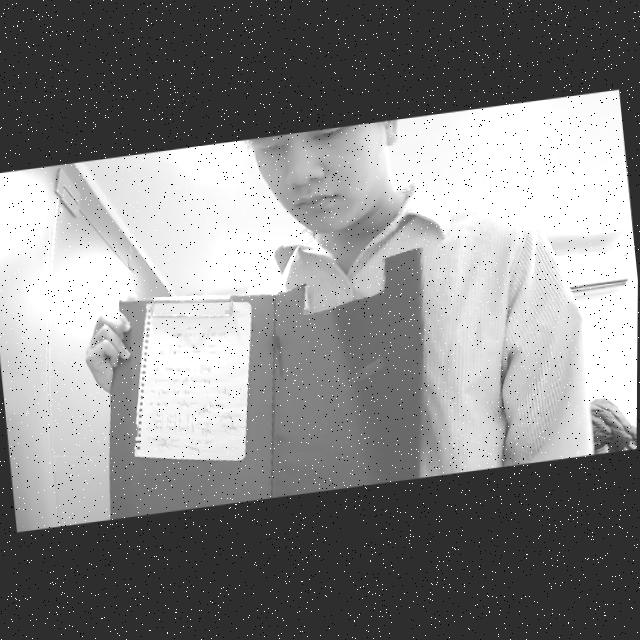document: (135, 302, 251, 460)
